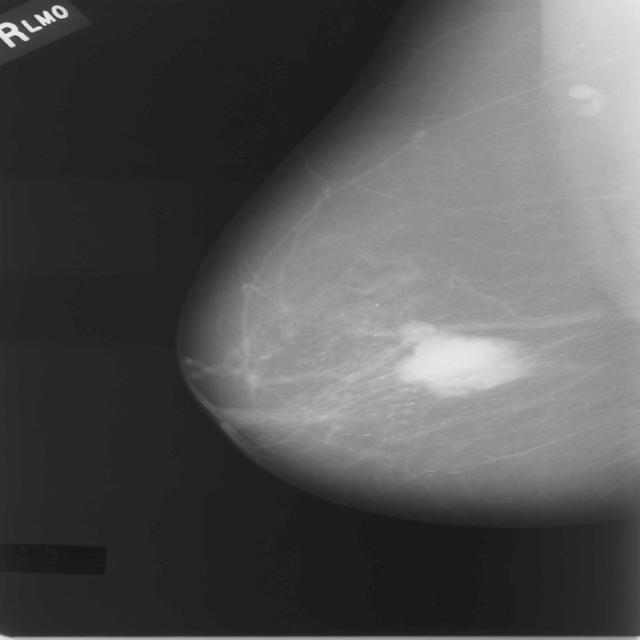tumour: (396, 321, 527, 393)
